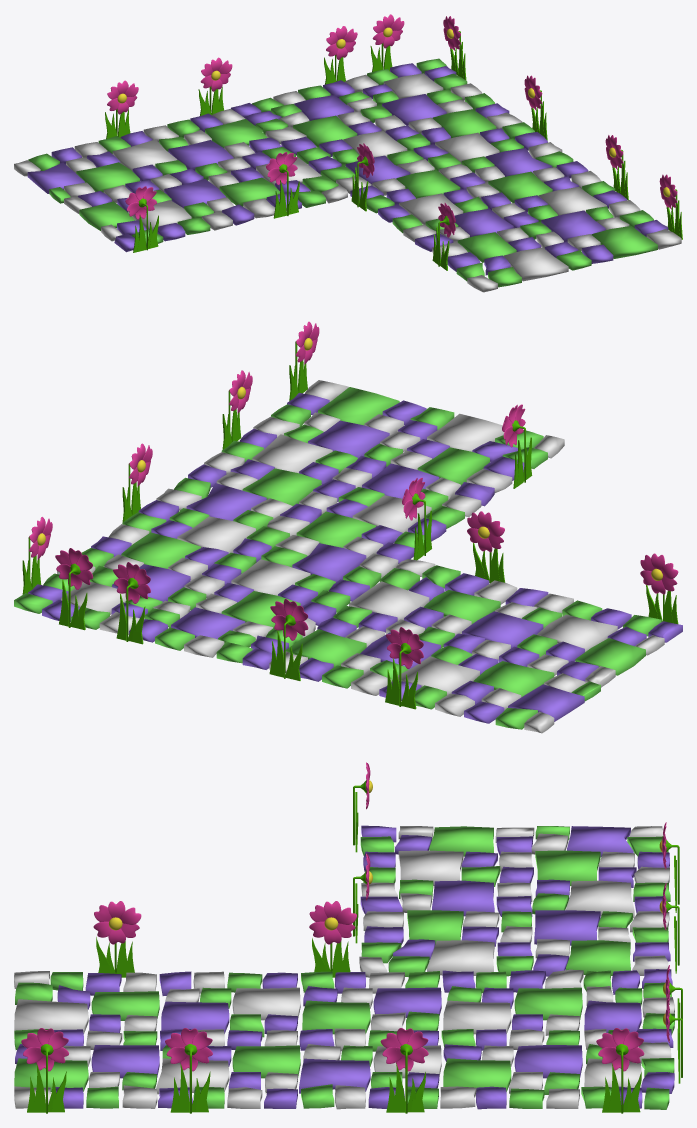
The model's file is stones_curve.glb.
The picture shows the model from 3 angles, top to bottom: view 1: azimuth 30°, elevation 25°; view 2: azimuth 150°, elevation 25°; view 3: azimuth 270°, elevation 25°; orthographic projection. The views are drawn at different scales.
Visible parts, largest first — view 1: Path; view 2: Path; view 3: Path.
Boxes of the visible parts, x1,y1,x2,y2 form: Path: (14, 14, 682, 292); Path: (14, 321, 682, 733); Path: (14, 762, 682, 1113).
Bounding box in the file's own units: 13.29 × 1.77 × 13.39.
